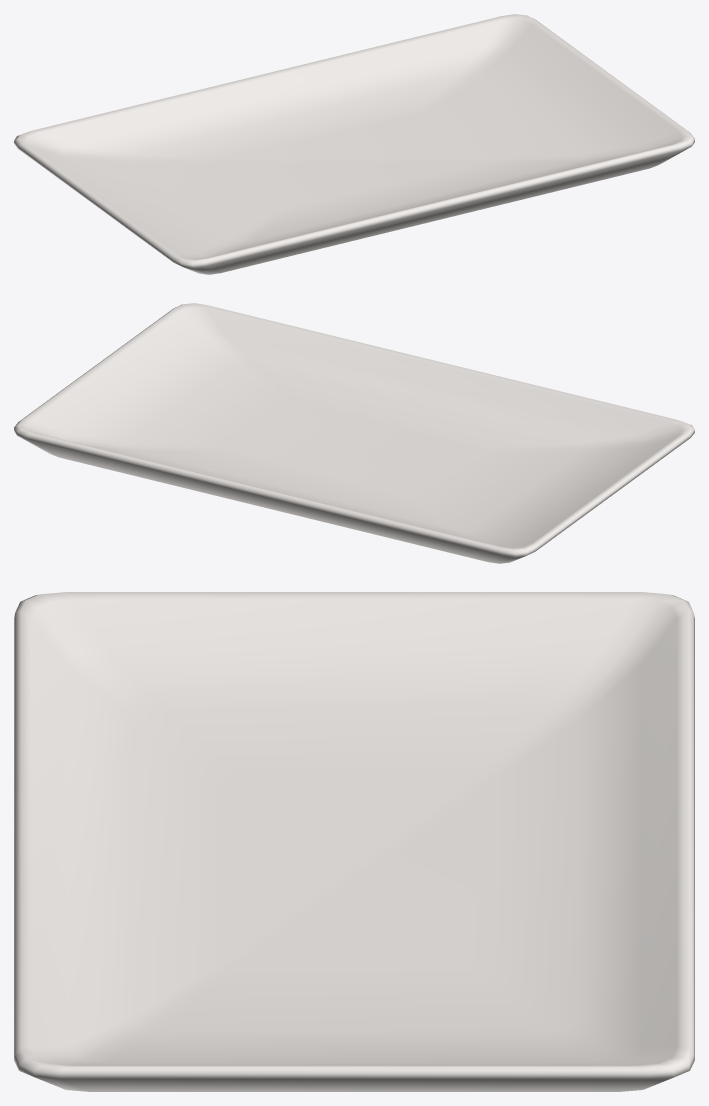
Rendered from BuffetSnacks02_8.FBX.
3 views of the same model, one above another, from view 1: azimuth 30°, elevation 25°; view 2: azimuth 150°, elevation 25°; view 3: azimuth 270°, elevation 25° (orthographic). The views are drawn at different scales.
Visible parts, largest first — view 1: BuffetSnacks02_8; view 2: BuffetSnacks02_8; view 3: BuffetSnacks02_8.
Boxes of the visible parts, x1,y1,x2,y2 form: BuffetSnacks02_8: [14, 14, 694, 274]; BuffetSnacks02_8: [14, 303, 694, 563]; BuffetSnacks02_8: [14, 592, 694, 1091].
Size of what is drawn, in the model's own units: 0.4959 by 0.0249 by 0.2973.
